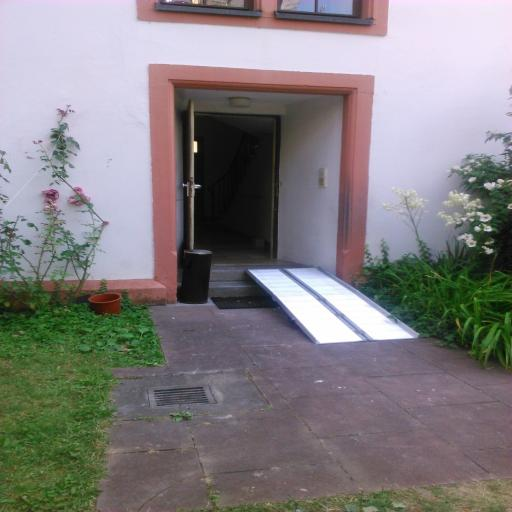ramp: (245, 266, 422, 344)
